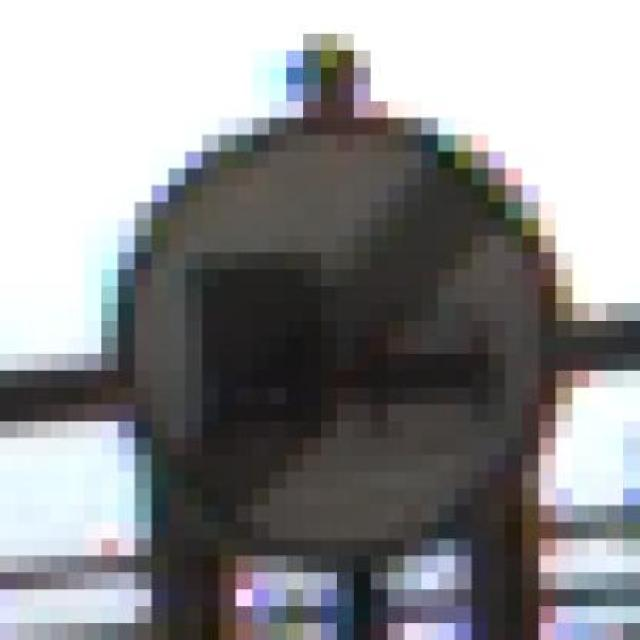Overtaking by trucks is prohibited: (50, 67, 590, 624)
